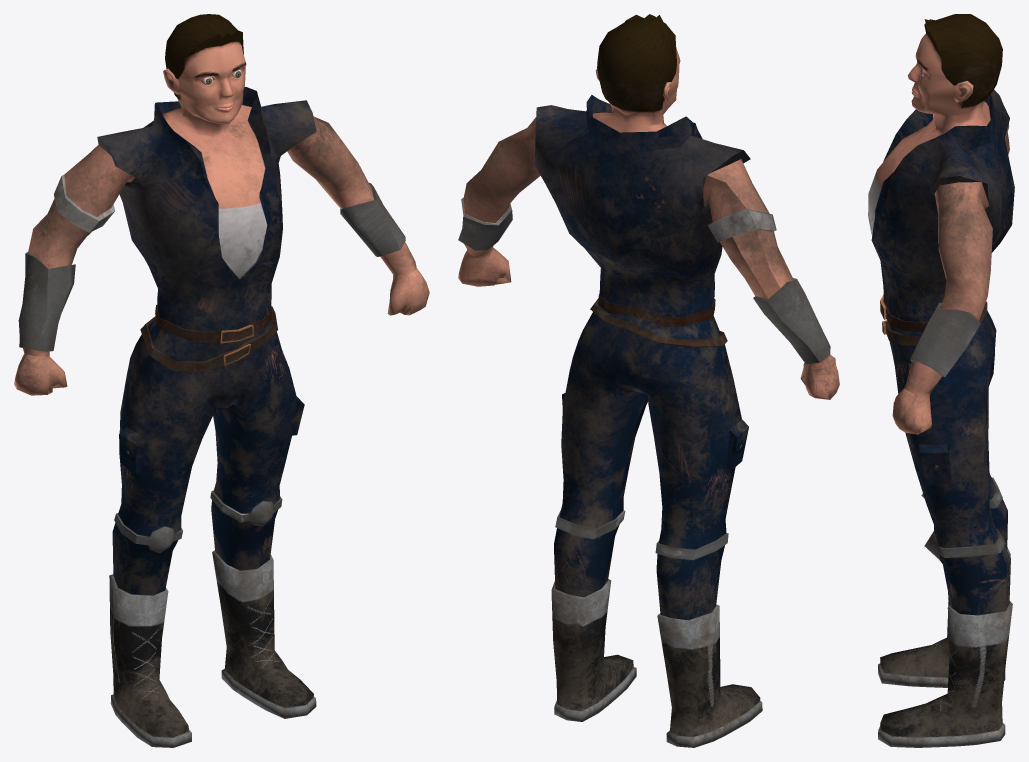
File: Anim_idle_jugador.0026.obj
3 views of the same model, side by side, from view 1: azimuth 30°, elevation 25°; view 2: azimuth 150°, elevation 25°; view 3: azimuth 270°, elevation 25° (orthographic).
Visible parts, largest first — view 1: polySurface1; view 2: polySurface1; view 3: polySurface1.
Part boxes in pixels (x1,y1,x2,y2): polySurface1: (14, 14, 429, 747); polySurface1: (458, 14, 839, 747); polySurface1: (868, 14, 1014, 747).
Size of the model in its own units: 5.76 by 9.65 by 1.85.
